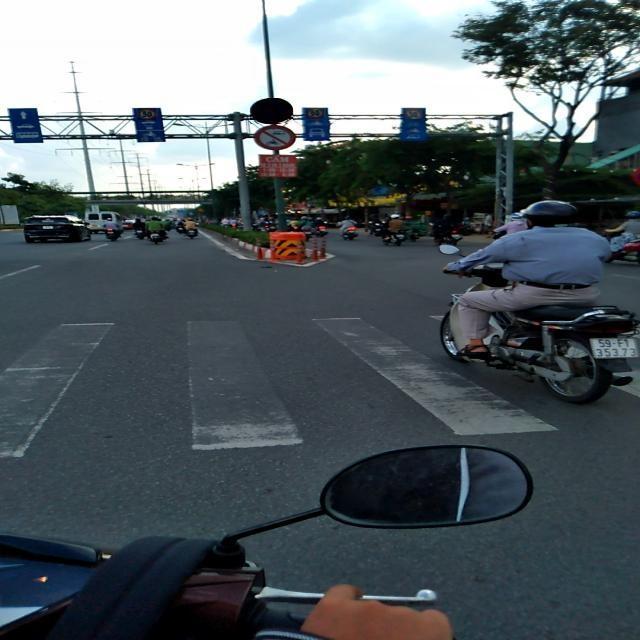bien_chi_dan: (250, 98, 293, 124), (138, 108, 156, 120), (306, 109, 324, 119), (405, 109, 422, 119)
